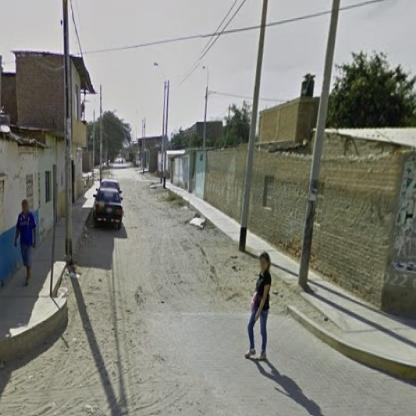Peaton: (247, 253, 273, 361), (15, 200, 38, 286)
Pista: (6, 164, 414, 387)
Vehiculo: (93, 188, 124, 231)
